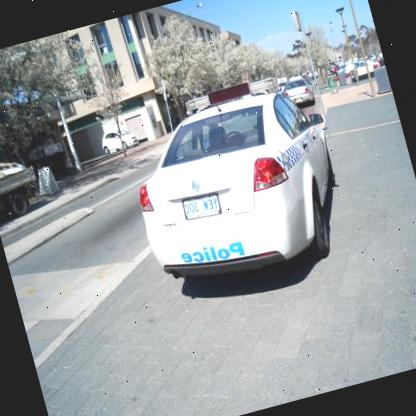car: (108, 71, 366, 312)
